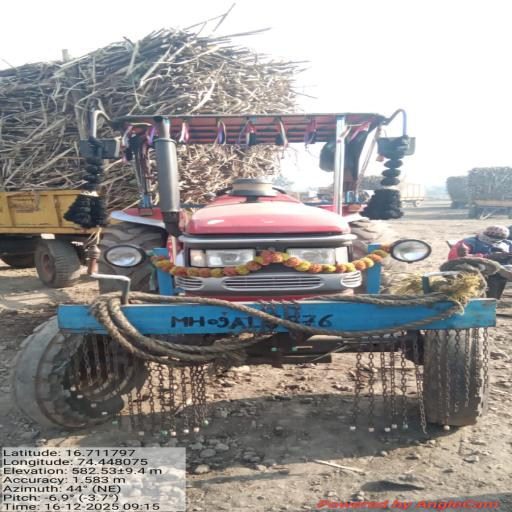number_plate: (144, 302, 344, 339)
